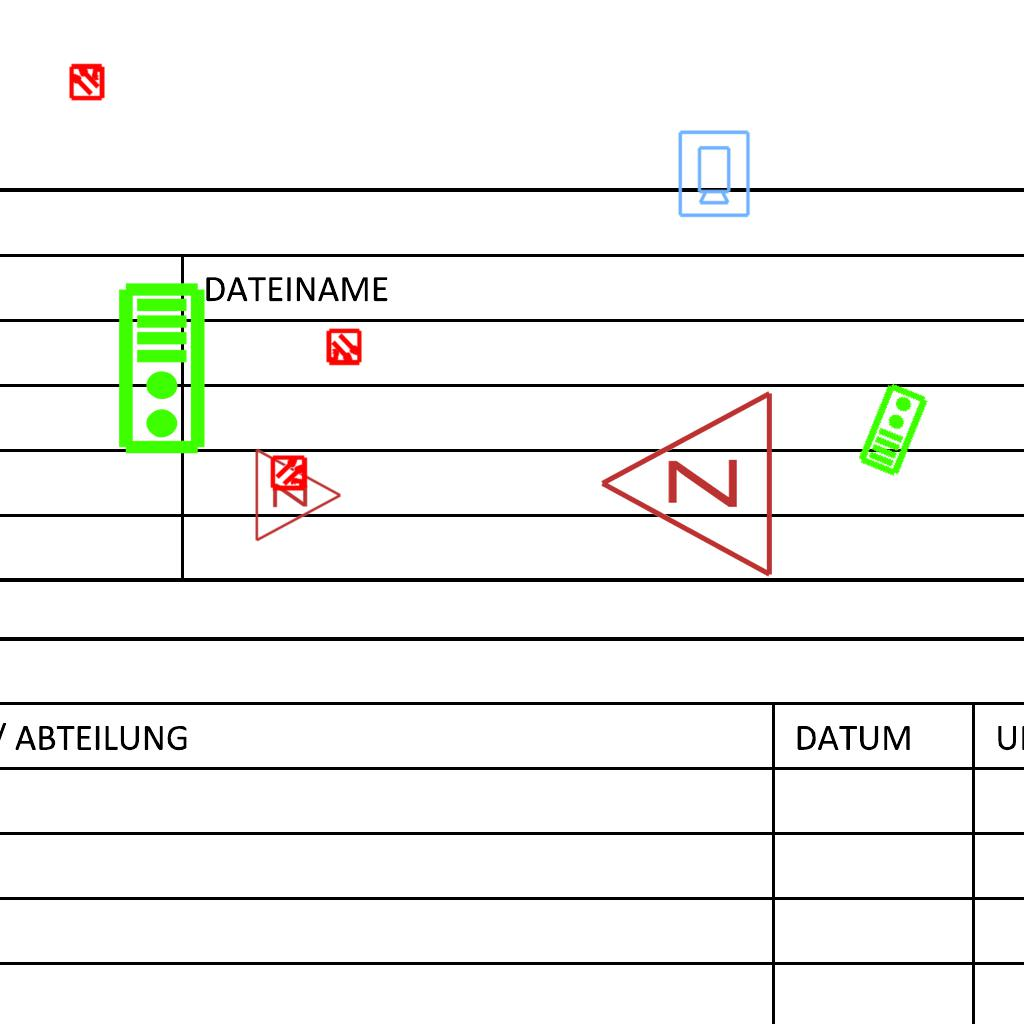Gegensprechanlage_mit_Video: (116, 281, 211, 457), (854, 379, 931, 479)
KFO_Kamera_mit_Festobjektiv: (675, 128, 752, 219)
OT_Multisensormelder_(Kombination_RMO_WMD): (59, 53, 115, 109), (316, 320, 372, 376), (262, 445, 318, 501)
Zimmersignalleuchte: (587, 388, 787, 584), (248, 445, 348, 543)
